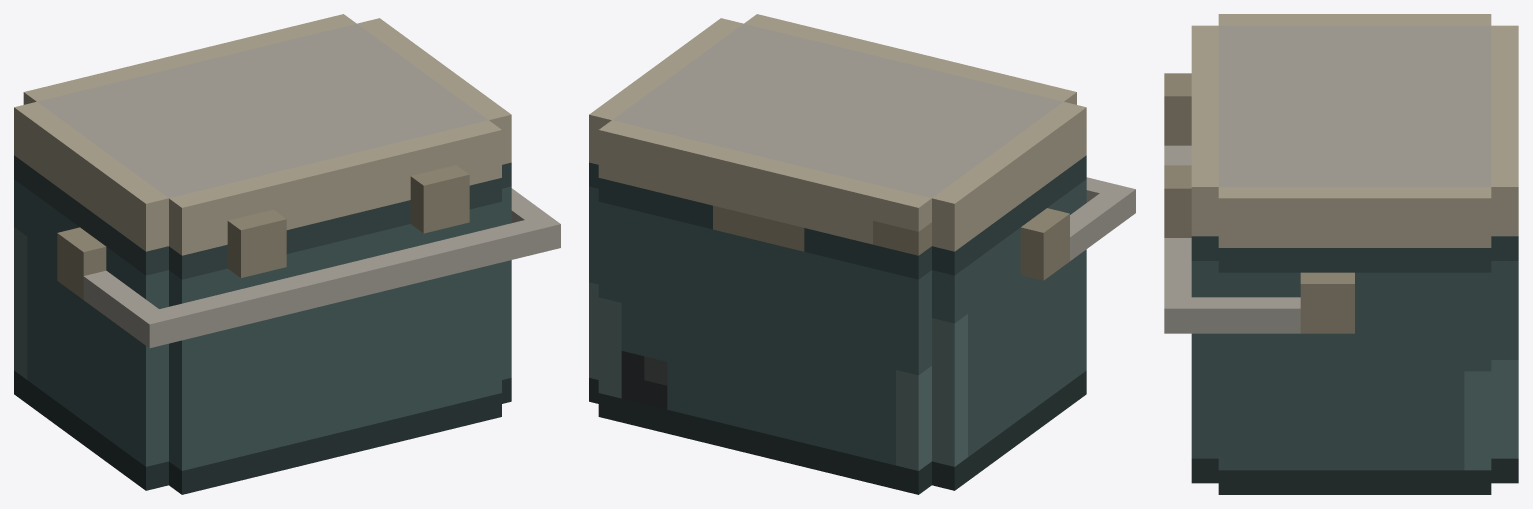
The model's file is Claude_small_cooler.glb.
3 renders of one model, left to right at view 1: azimuth 30°, elevation 25°; view 2: azimuth 150°, elevation 25°; view 3: azimuth 270°, elevation 25°, orthographic. The views are drawn at different scales.
Visible parts, largest first — view 1: Claude_small_cooler; view 2: Claude_small_cooler; view 3: Claude_small_cooler.
Boxes of the visible parts, x1=… form: Claude_small_cooler: x1=14, y1=14, x2=560, y2=494; Claude_small_cooler: x1=589, y1=14, x2=1135, y2=494; Claude_small_cooler: x1=1164, y1=14, x2=1518, y2=494.
Size of the model in its own units: 0.45 by 0.3 by 0.325.
